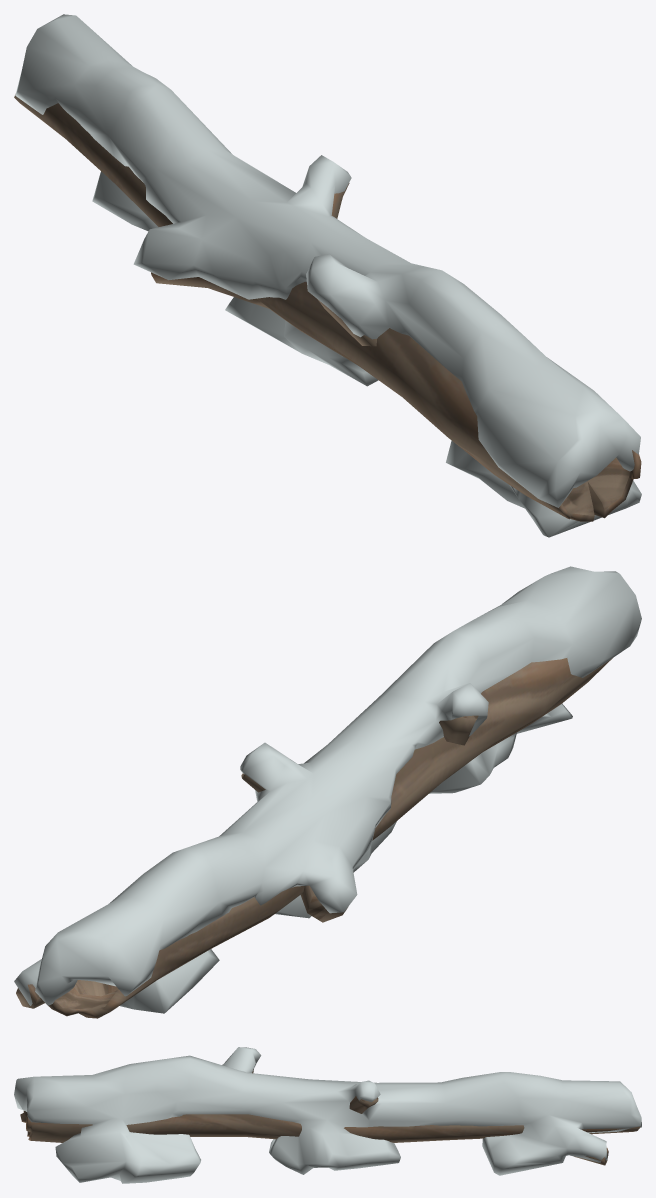
The model's file is P_PineFallen1_SnowCover.obj.
3 views of the same model, one above another, from view 1: azimuth 30°, elevation 25°; view 2: azimuth 150°, elevation 25°; view 3: azimuth 270°, elevation 25° (orthographic). The views are drawn at different scales.
Bounding box in the file's own units: 2.08 × 1.86 × 9.98.
